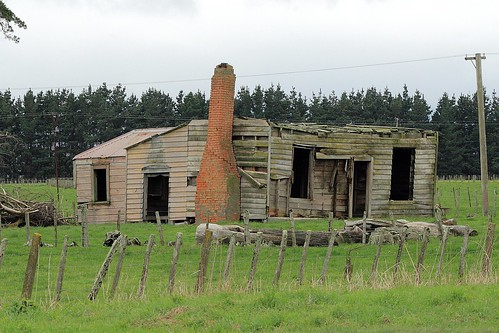building: (74, 116, 437, 228)
grass: (1, 227, 491, 333)
sky: (8, 2, 499, 88)
vegetation: (8, 95, 499, 170)
